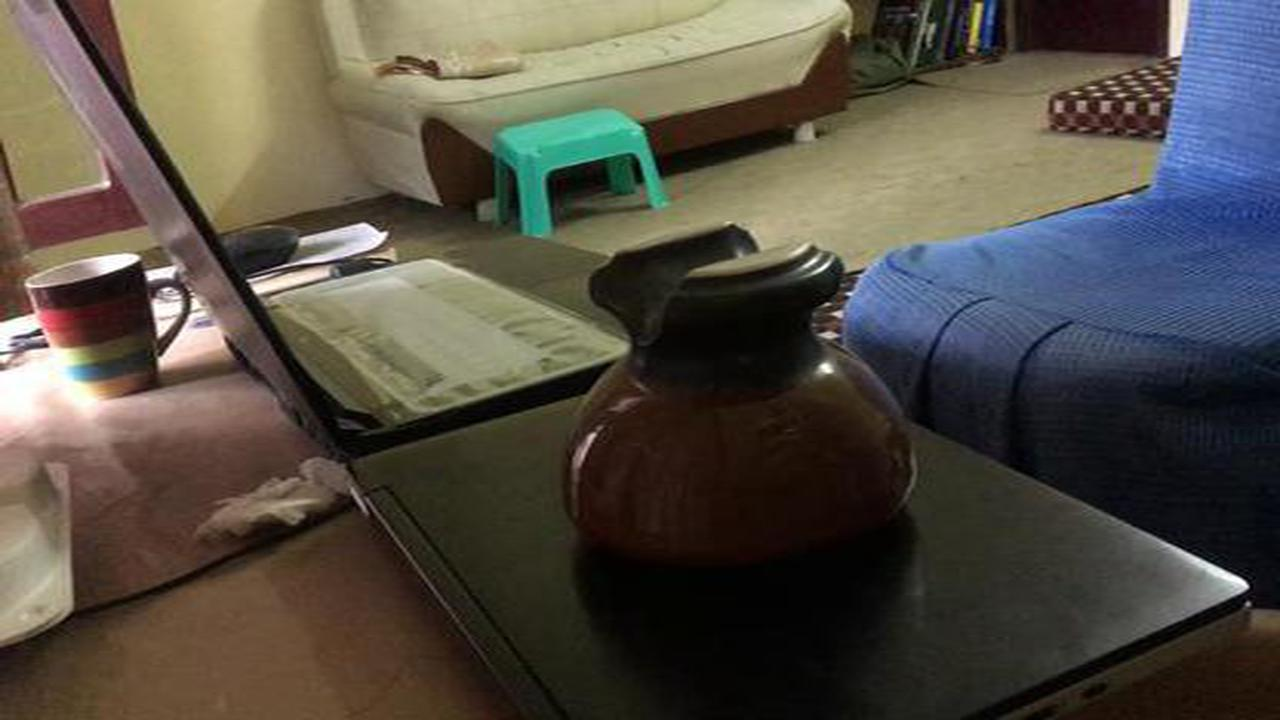insulator_pin: (539, 212, 930, 587)
